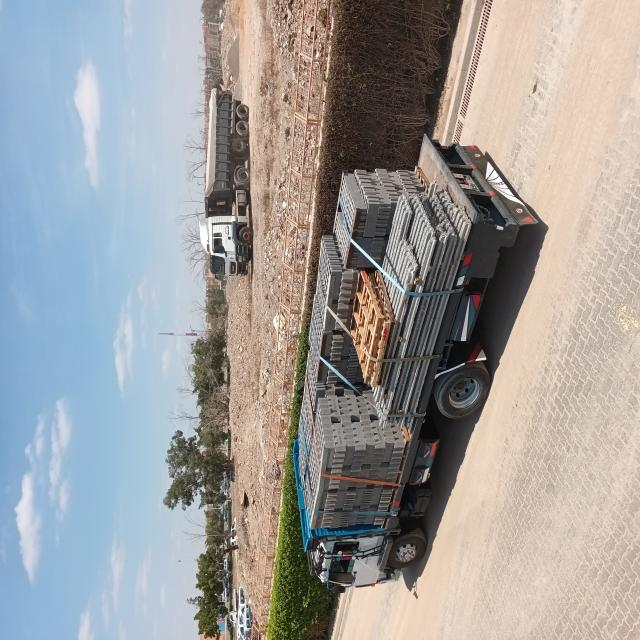bricks: (301, 384, 405, 528)
